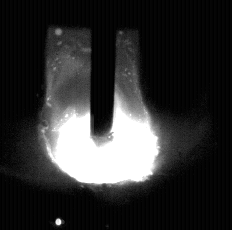arame: (90, 0, 115, 147)
poca: (47, 0, 158, 230)
